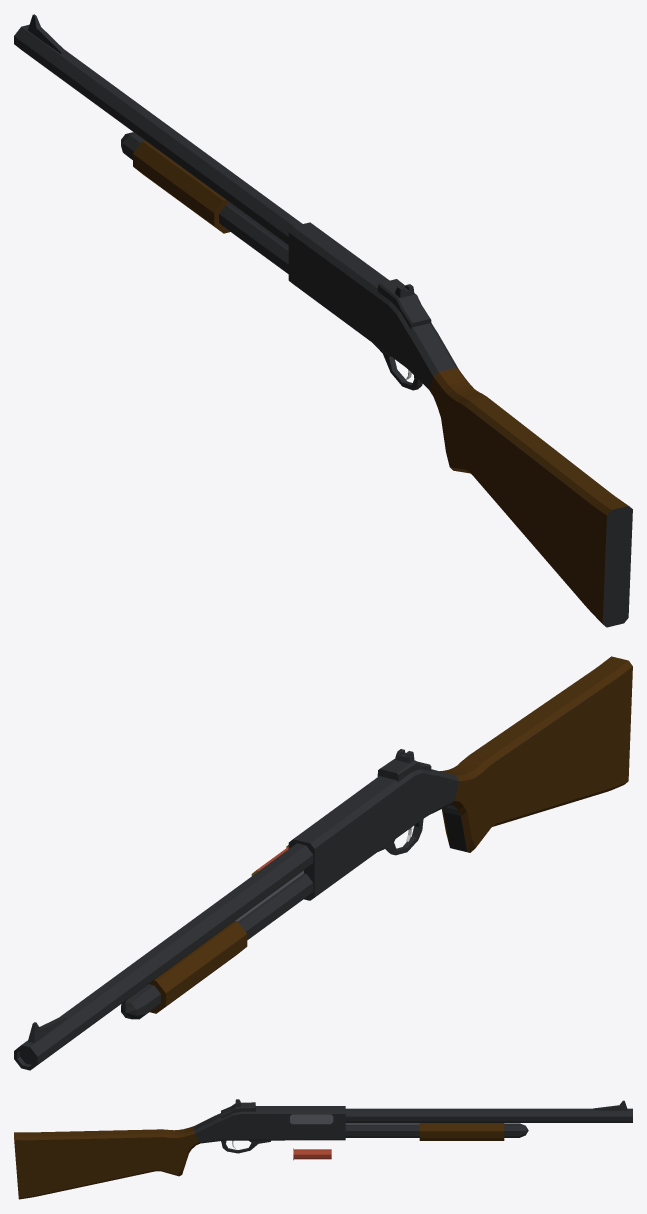
File: Beretta RS-202.fbx
3 renders of one model, top to bottom at view 1: azimuth 30°, elevation 25°; view 2: azimuth 150°, elevation 25°; view 3: azimuth 270°, elevation 25°, orthographic. The views are drawn at different scales.
Visible parts, largest first — view 1: Cube, Cube.001; view 2: Cube, Cube.001; view 3: Cube, Cube.001, Cube.003.
Part boxes in pixels (<box>): Cube: <box>14,14,632,627</box>; Cube.001: <box>133,140,288,248</box>; Cube: <box>14,656,632,1070</box>; Cube.001: <box>149,870,303,1013</box>; Cube: <box>14,1099,632,1199</box>; Cube.001: <box>290,1114,504,1140</box>; Cube.003: <box>293,1148,331,1160</box>.
Size of the model in its own units: 164 by 354 by 2063.
Materials: 4 (3 with a texture image).
